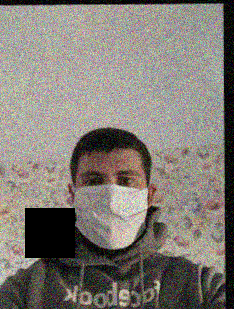with_mask: (72, 161, 149, 249)
